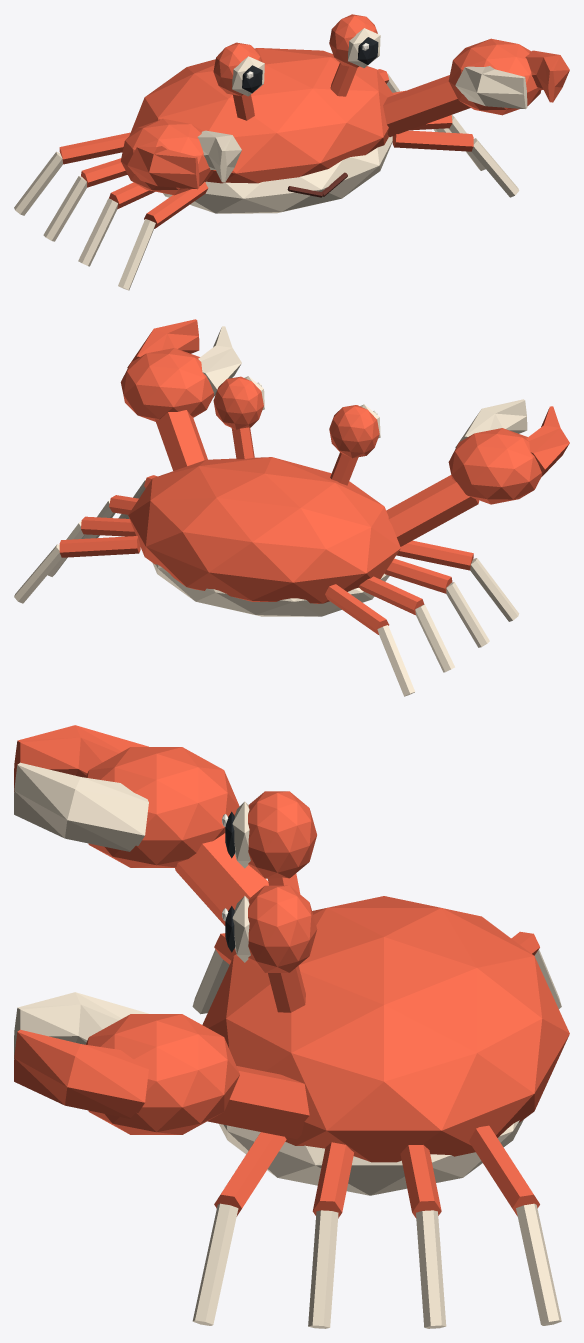
Rendered from beach-crab.glb.
3 views of the same model, one above another, from view 1: azimuth 30°, elevation 25°; view 2: azimuth 150°, elevation 25°; view 3: azimuth 270°, elevation 25° (orthographic). The views are drawn at different scales.
Visible parts, largest first — view 1: Beach Crab geometry Body, Beach Crab geometry Claw right, Beach Crab geometry Legs left, Beach Crab geometry Claw left, Beach Crab geometry Legs right, Beach Crab geometry Eye right, Beach Crab geometry Eye left; view 2: Beach Crab geometry Body, Beach Crab geometry Claw left, Beach Crab geometry Claw right, Beach Crab geometry Legs left, Beach Crab geometry Legs right, Beach Crab geometry Eye right, Beach Crab geometry Eye left; view 3: Beach Crab geometry Body, Beach Crab geometry Claw right, Beach Crab geometry Claw left, Beach Crab geometry Legs right, Beach Crab geometry Eye right, Beach Crab geometry Eye left, Beach Crab geometry Legs left.
Boxes of the visible parts, box(x1,y1,x2,y2) form: Beach Crab geometry Body: box(129, 48, 393, 213); Beach Crab geometry Claw right: box(383, 38, 569, 136); Beach Crab geometry Legs left: box(14, 132, 208, 290); Beach Crab geometry Claw left: box(121, 118, 241, 195); Beach Crab geometry Legs right: box(377, 69, 519, 197); Beach Crab geometry Eye right: box(329, 14, 380, 96); Beach Crab geometry Eye left: box(213, 42, 264, 120); Beach Crab geometry Body: box(128, 457, 400, 616); Beach Crab geometry Claw left: box(386, 399, 569, 546); Beach Crab geometry Claw right: box(120, 319, 241, 470); Beach Crab geometry Legs left: box(325, 540, 519, 696); Beach Crab geometry Legs right: box(14, 475, 157, 603); Beach Crab geometry Eye right: box(213, 376, 264, 459); Beach Crab geometry Eye left: box(329, 404, 380, 485); Beach Crab geometry Body: box(202, 896, 569, 1195); Beach Crab geometry Claw right: box(14, 992, 309, 1138); Beach Crab geometry Claw left: box(14, 725, 268, 925); Beach Crab geometry Legs right: box(192, 1125, 561, 1328); Beach Crab geometry Eye right: box(222, 885, 317, 1012); Beach Crab geometry Eye left: box(222, 791, 316, 893); Beach Crab geometry Legs left: box(192, 931, 561, 1014).
Size of the model in its own units: 0.8728 by 0.3911 by 0.5984.
